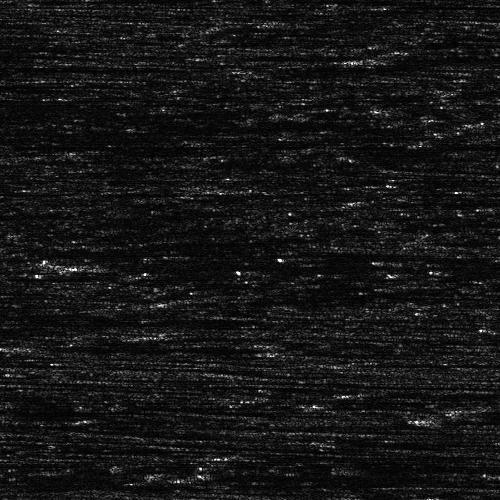object: (0, 258, 155, 277), (349, 52, 422, 63), (0, 479, 42, 490), (0, 315, 10, 324)
shadow: (77, 258, 412, 277), (0, 315, 223, 324), (0, 479, 154, 490), (386, 52, 488, 63)
